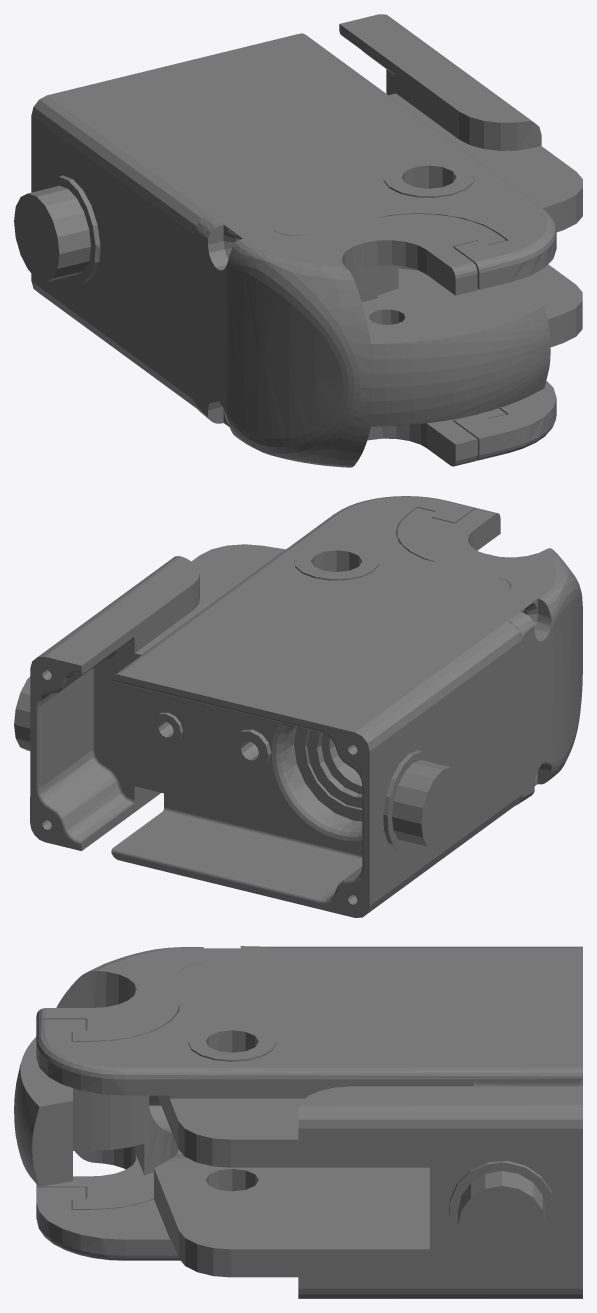
Rendered from lh_index_metacarpals_vis.obj.
The picture shows the model from 3 angles, top to bottom: view 1: azimuth 30°, elevation 25°; view 2: azimuth 150°, elevation 25°; view 3: azimuth 270°, elevation 25°; orthographic projection. The views are drawn at different scales.
Parts seen in each view (by area): view 1: lh_index_metacarpals; view 2: lh_index_metacarpals; view 3: lh_index_metacarpals.
Part boxes in pixels (box(x1,y1,x2,y2)): lh_index_metacarpals: box(14, 14, 582, 467); lh_index_metacarpals: box(14, 496, 582, 917); lh_index_metacarpals: box(14, 946, 582, 1298).
Size of the model in its own units: 0.0276 by 0.0122 by 0.0322.
Materials: 1 (1 with a texture image).
